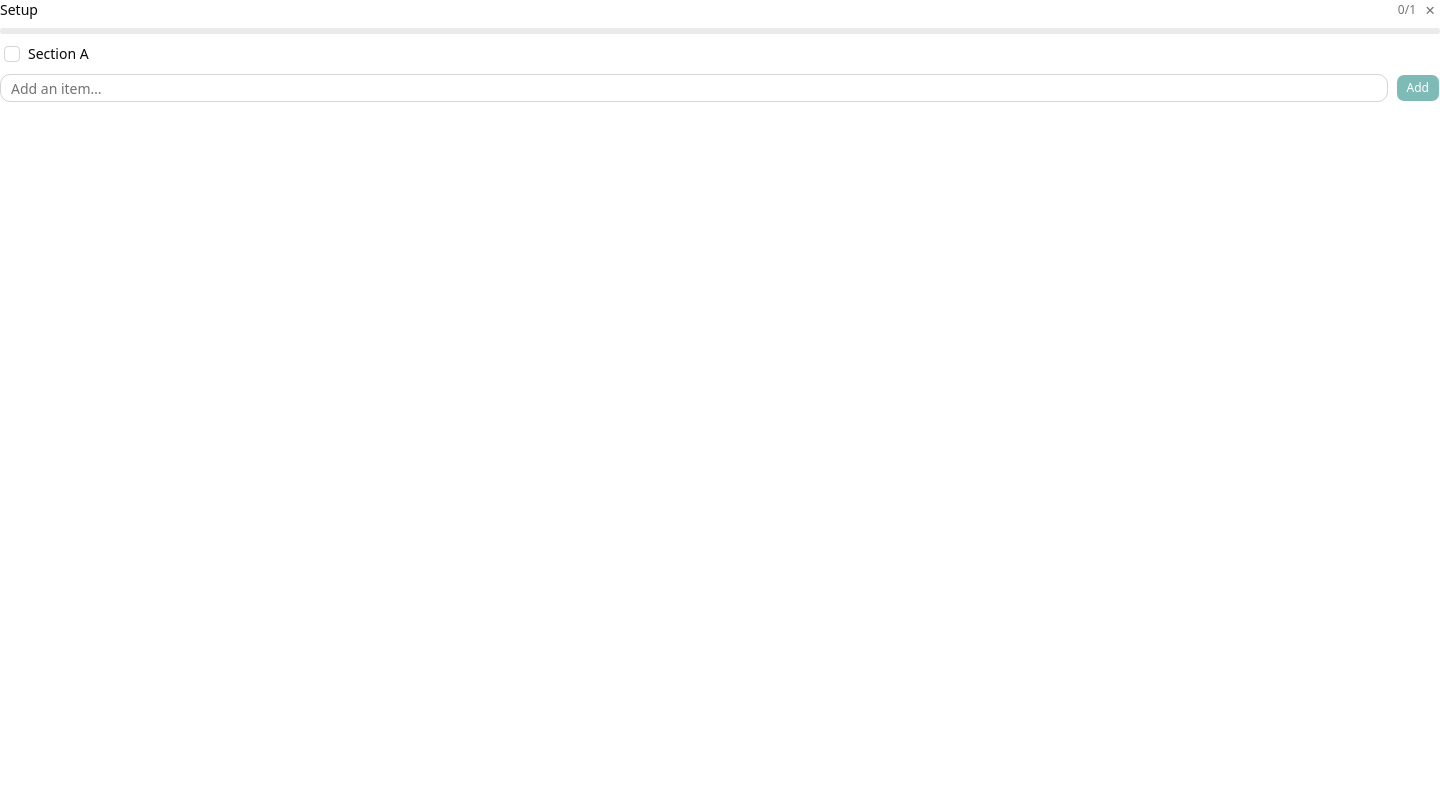
TaskChecklist › words on translation projects › marks an invalid value and clears the error while retyping
The width and height of the screenshot is (1440, 810).
Click the text "Section A" at (58, 54), box [28,44,89,63]
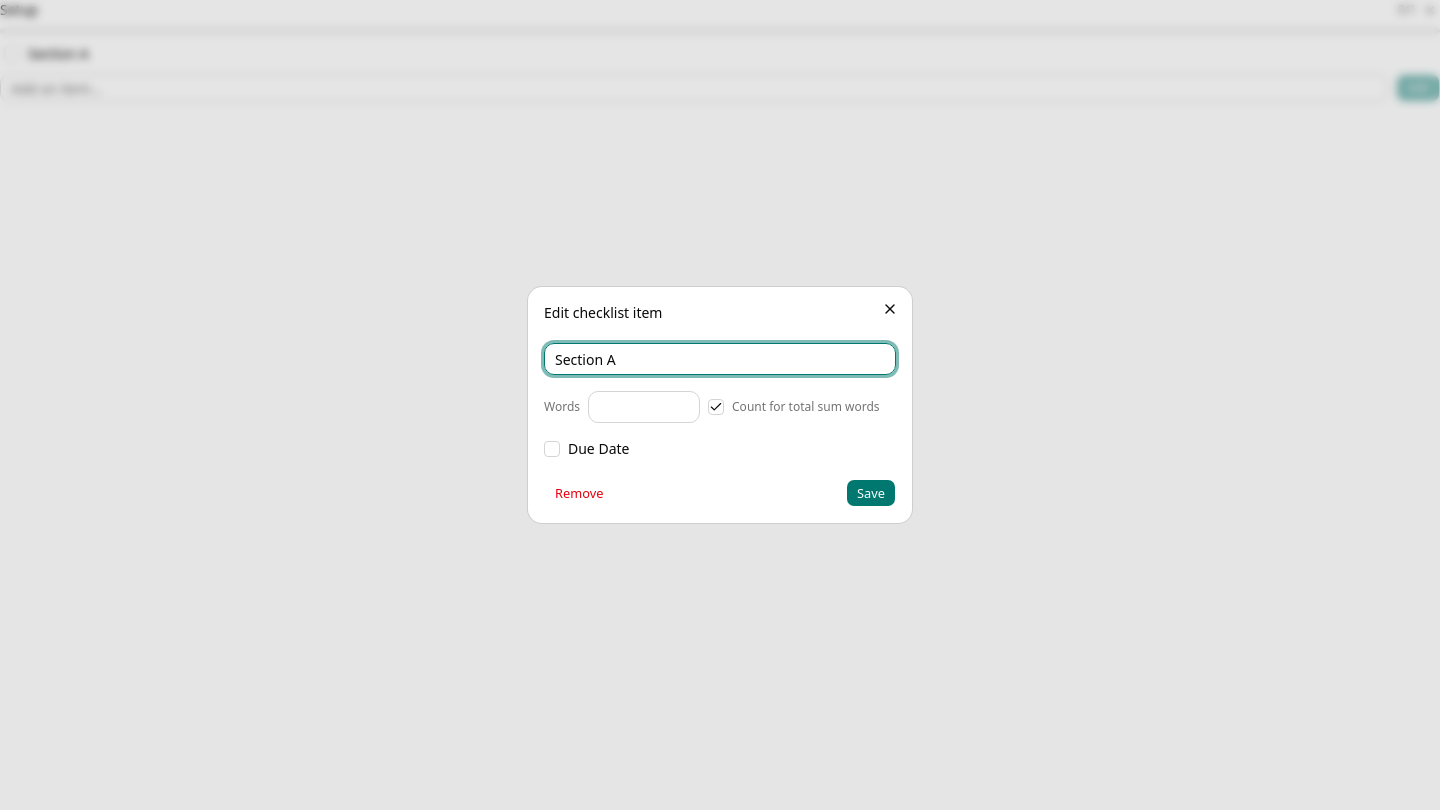
Type "-5" into the field labelled "Words" at (644, 407), box [588,391,700,423]
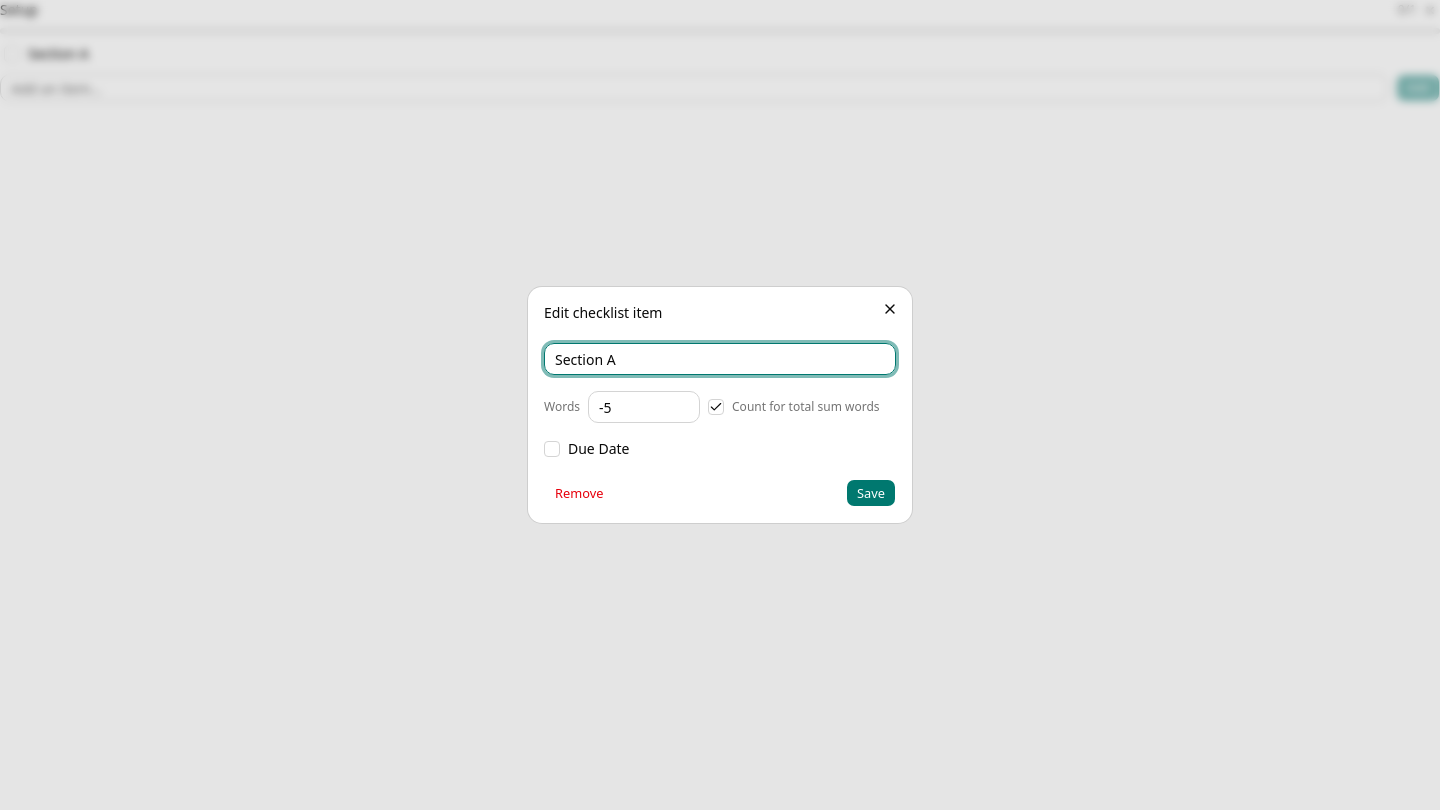
Click the button "Save" at (871, 493), box [846,479,896,507]
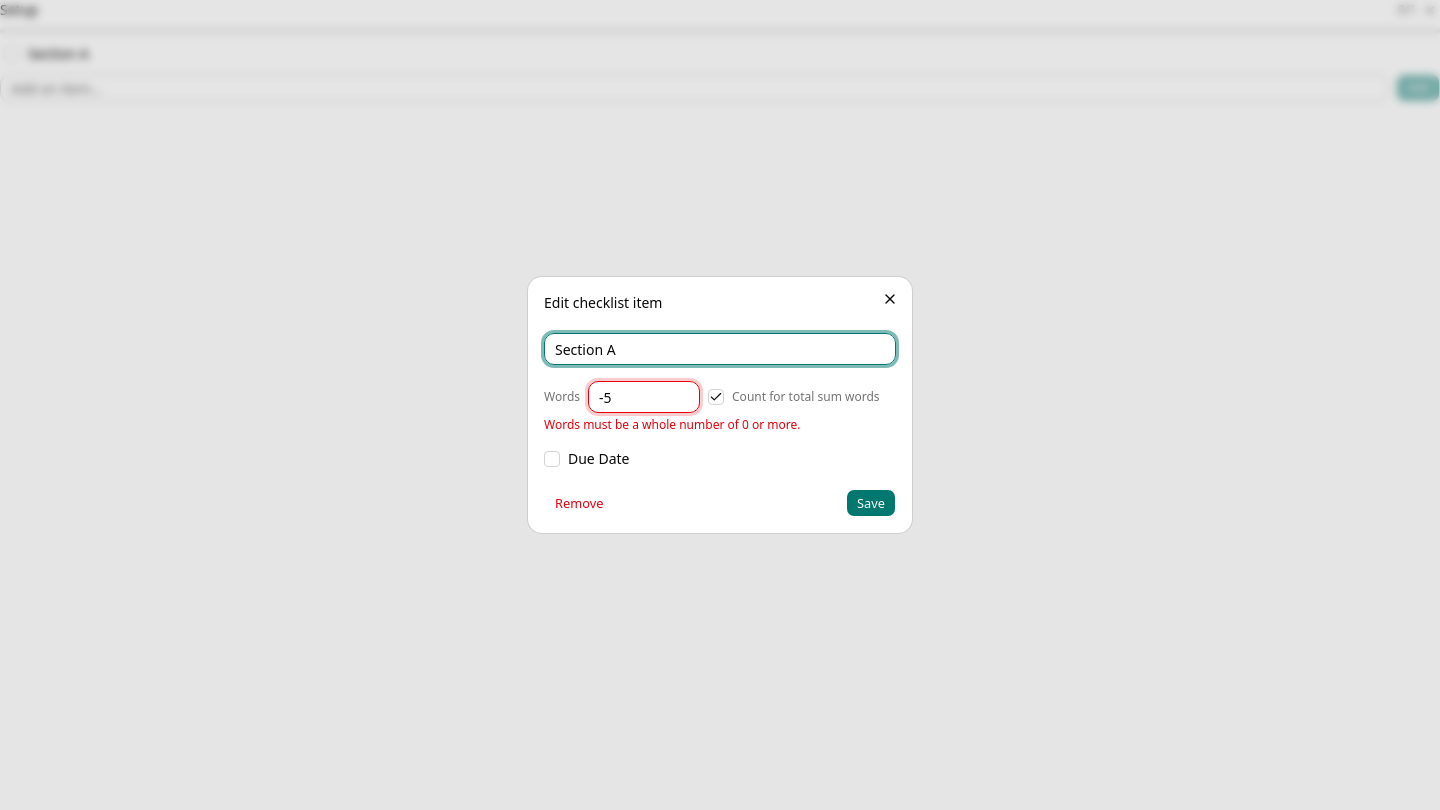
Check: the text "Words must be a whole number of 0 or more." is shown, box [544,416,800,433]
Replace the text in the field labelled "Words" with "5" at (644, 397), box [588,381,700,413]
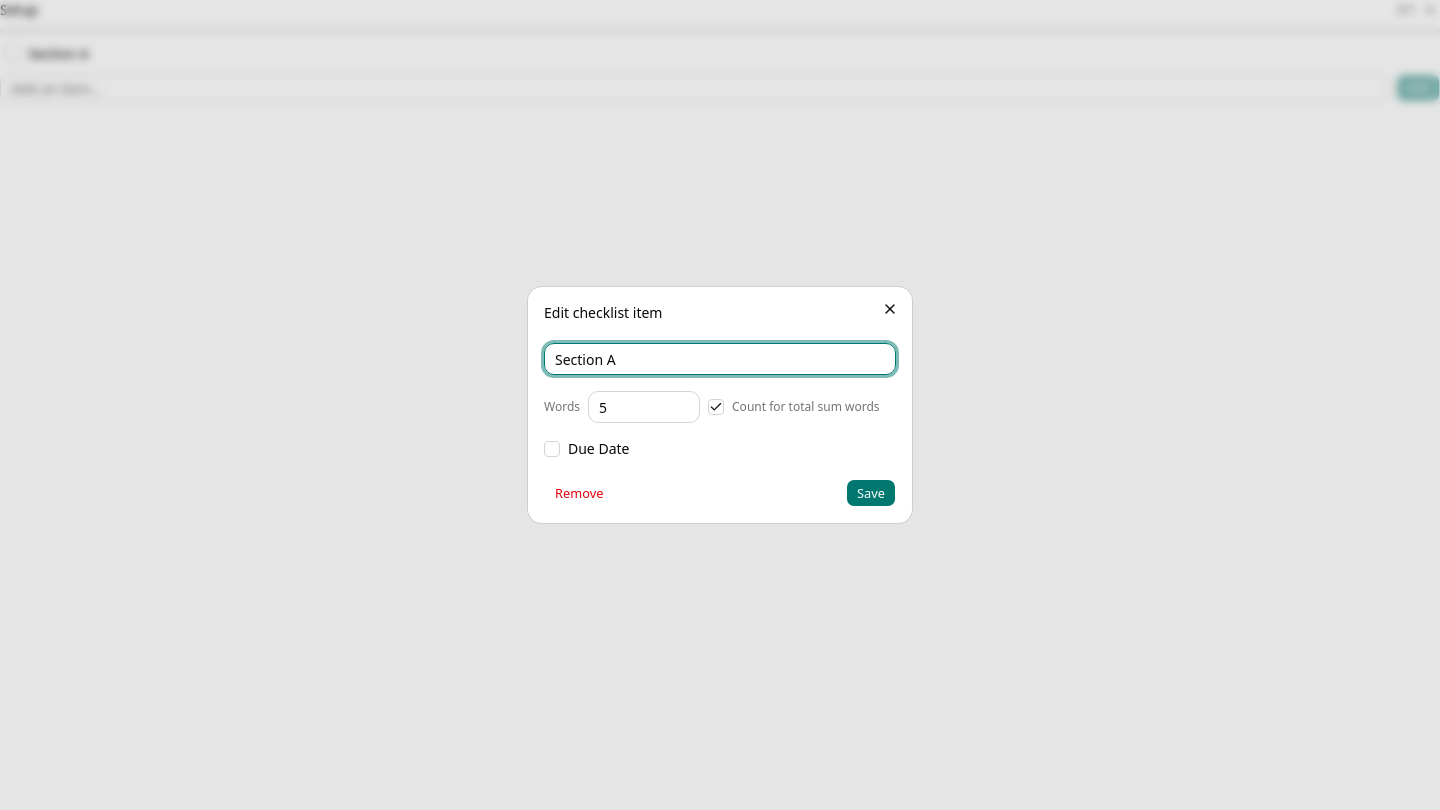
Check: the text "whole number" is gone
